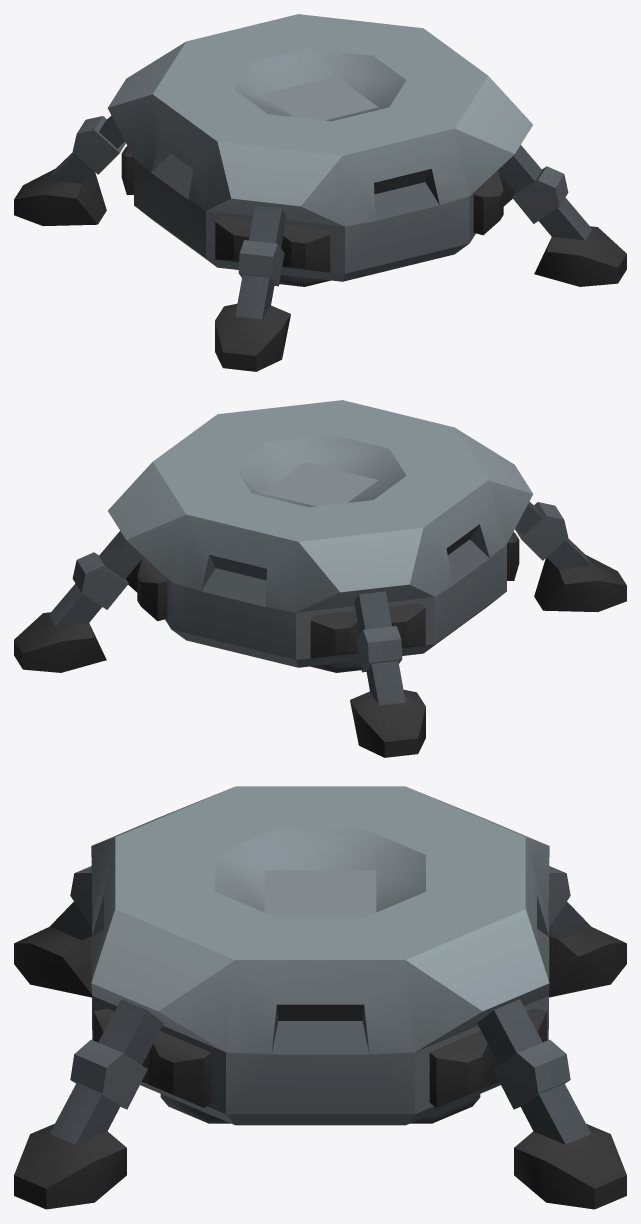
Rendered from lander_base.glb.
The picture shows the model from 3 angles, top to bottom: view 1: azimuth 30°, elevation 25°; view 2: azimuth 150°, elevation 25°; view 3: azimuth 270°, elevation 25°; orthographic projection. The views are drawn at different scales.
Visible parts, largest first — view 1: lander_base_Cylinder.2690; view 2: lander_base_Cylinder.2690; view 3: lander_base_Cylinder.2690.
Boxes of the visible parts, x1,y1,x2,y2 form: lander_base_Cylinder.2690: (14, 14, 626, 371); lander_base_Cylinder.2690: (14, 400, 626, 757); lander_base_Cylinder.2690: (14, 786, 626, 1209).
Size of the model in its own units: 1.34 by 0.5 by 1.34.
1 material, 1 textured.
